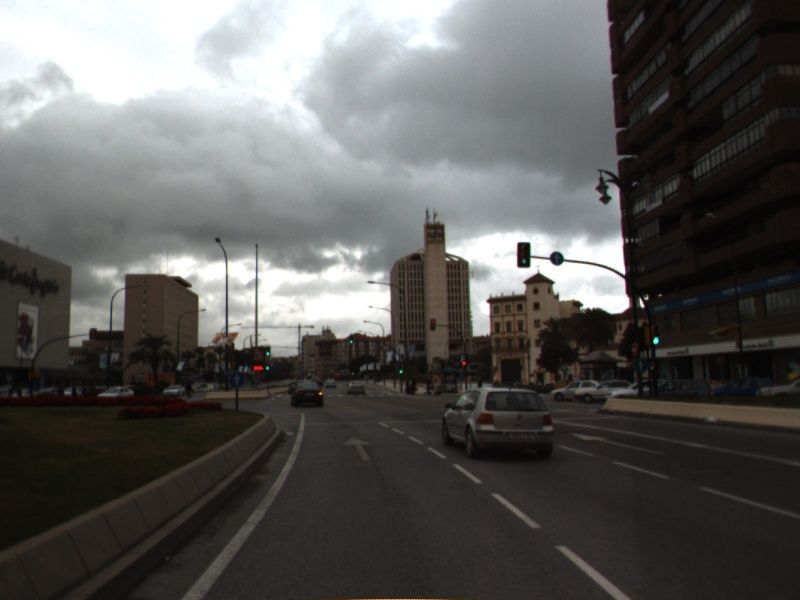STRAIGHT: (567, 430, 667, 457), (340, 434, 373, 463)
